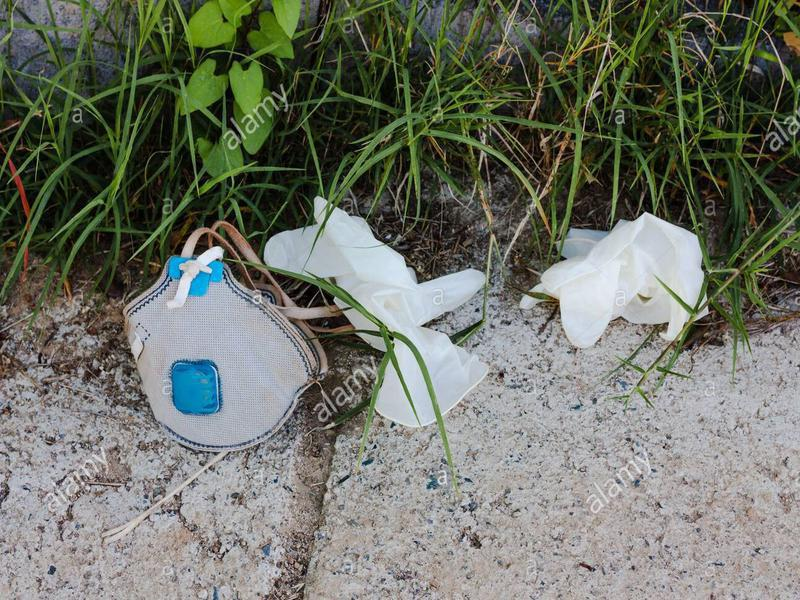gloves: (251, 185, 493, 439), (510, 208, 719, 355)
mask: (107, 215, 335, 460)
